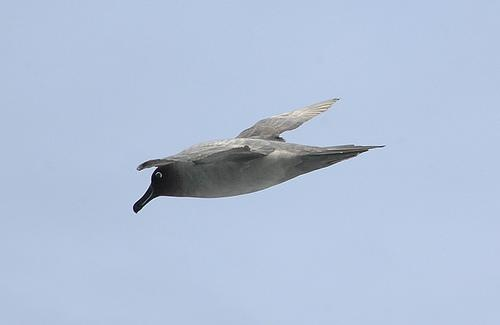bird: (128, 91, 390, 217)
